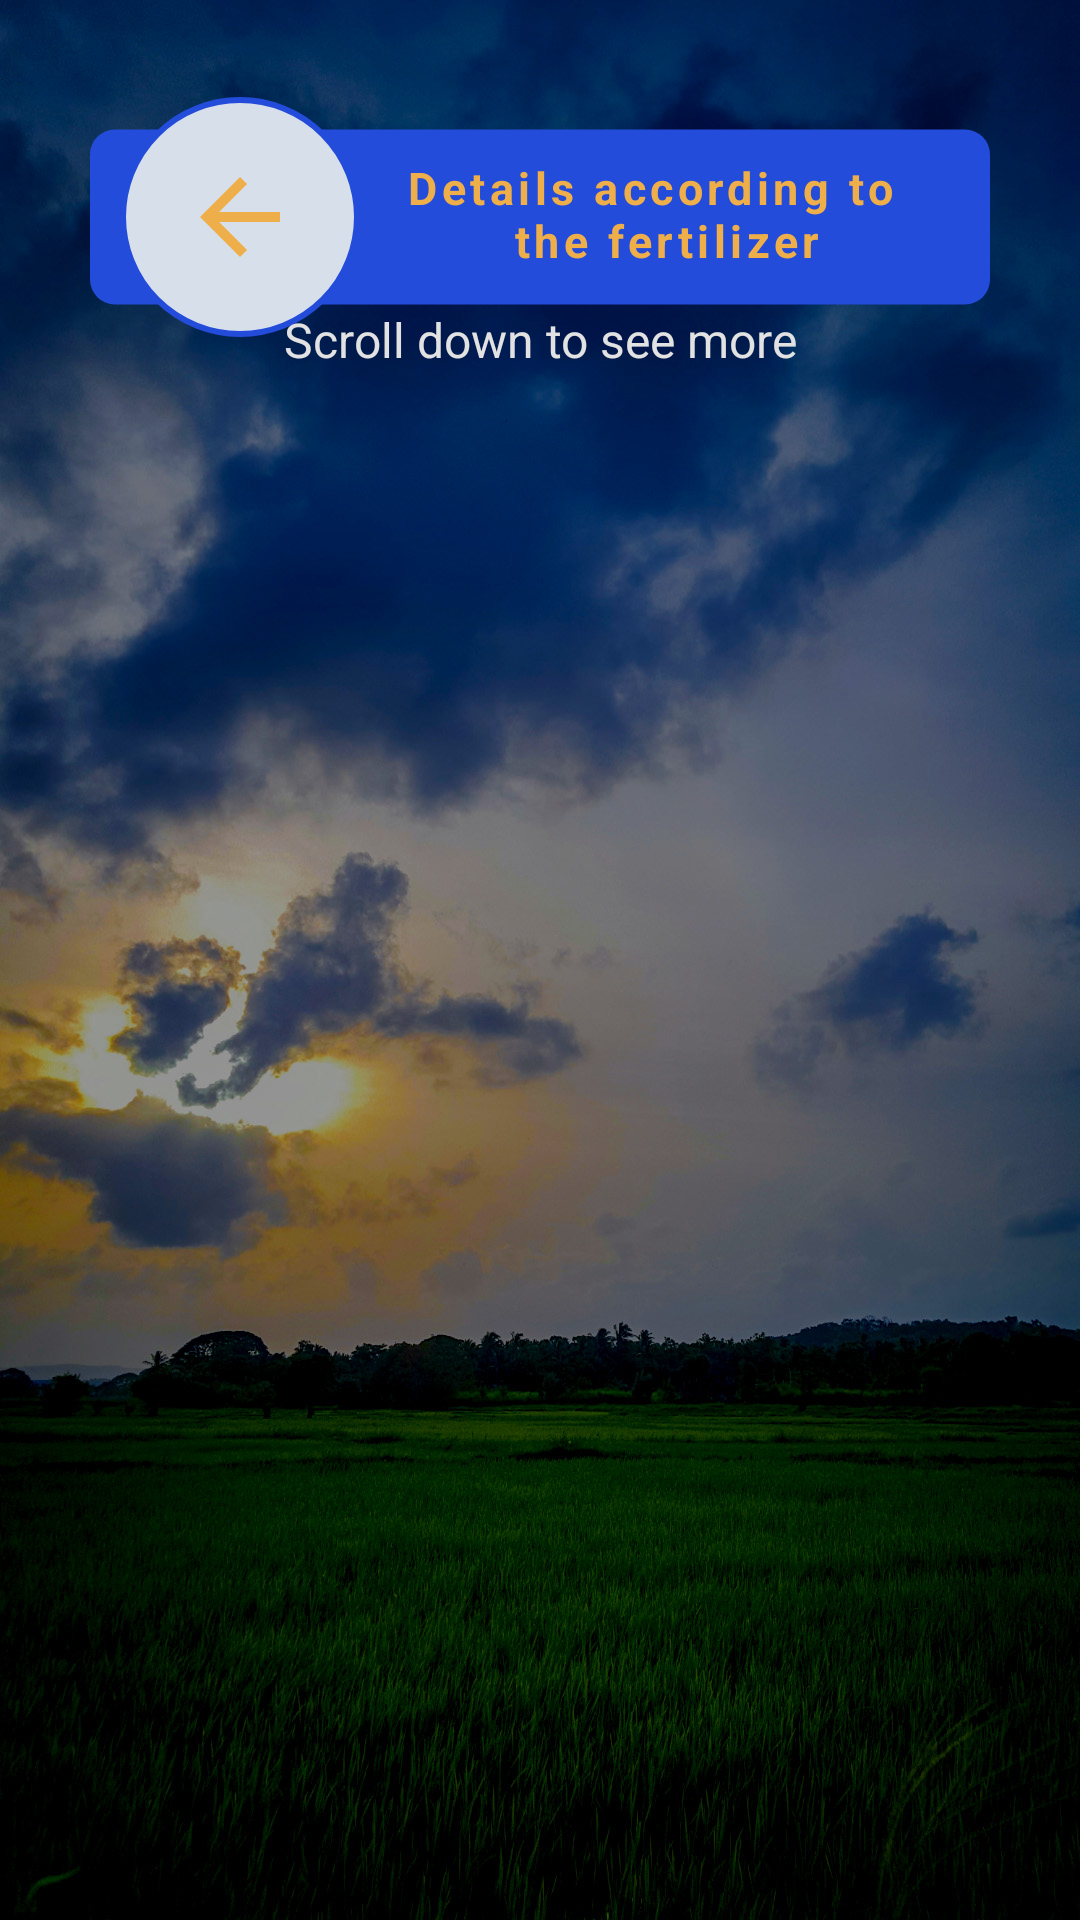

Icon click points for this 1080×1920 phone screenshot, format [x,y]:
arrow back: [240,217]
